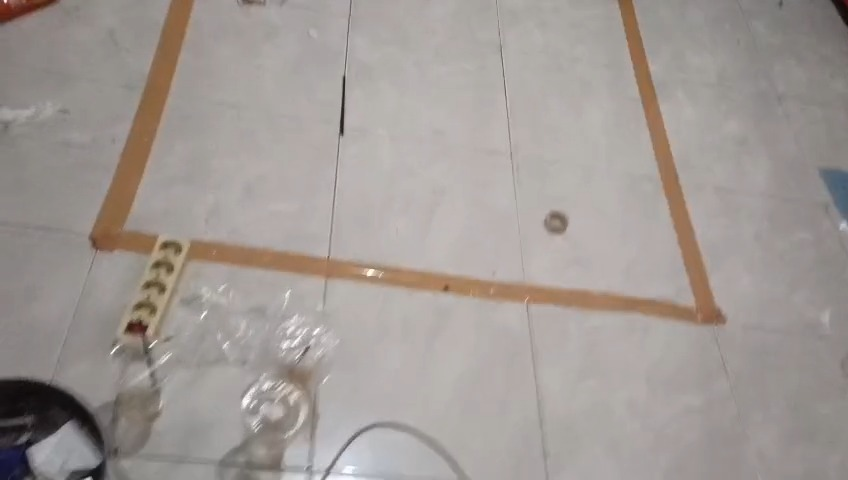floor marking: (190, 0, 725, 324), (90, 0, 193, 252)
